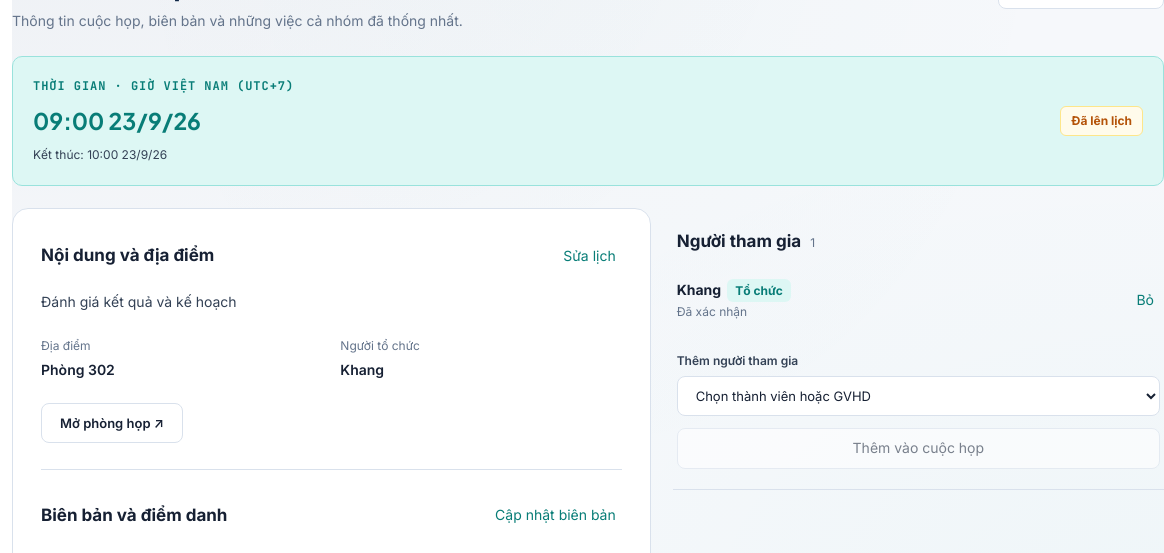
Test: Meetings end-user workflow › updates schedule without changing its participants or shifting time
The width and height of the screenshot is (1164, 553).
Step 1. Click the button "Sửa lịch" → (589, 256), box [557,237,622,275]
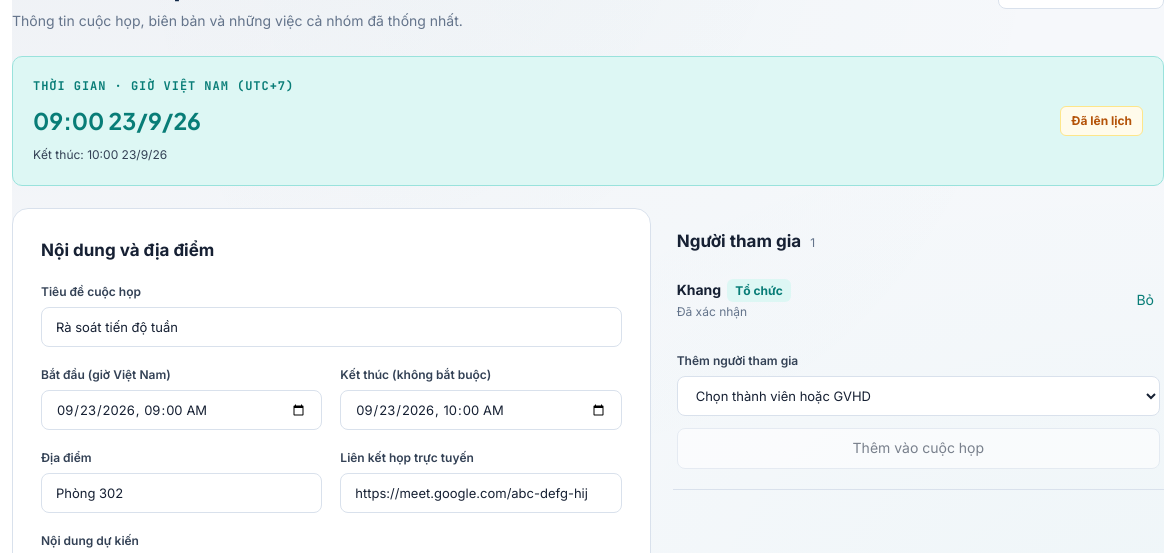
Expected: the field labelled "Bắt đầu (giờ Việt Nam)" holds "2026-09-23T09:00", [41,390,322,430]
Step 2. Replace the text in the field labelled "Địa điểm" with "Phòng 401" → (182, 493), box [41,473,322,513]
(page scrolled)
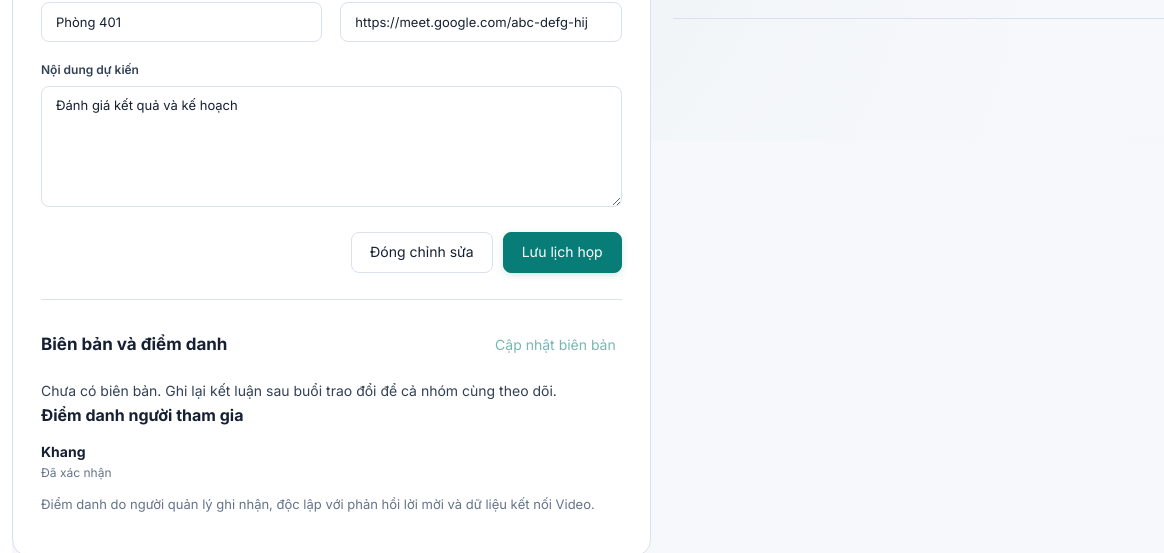
Step 3. Click the button "Lưu lịch họp" → (562, 253), box [503,232,622,273]
(page scrolled)
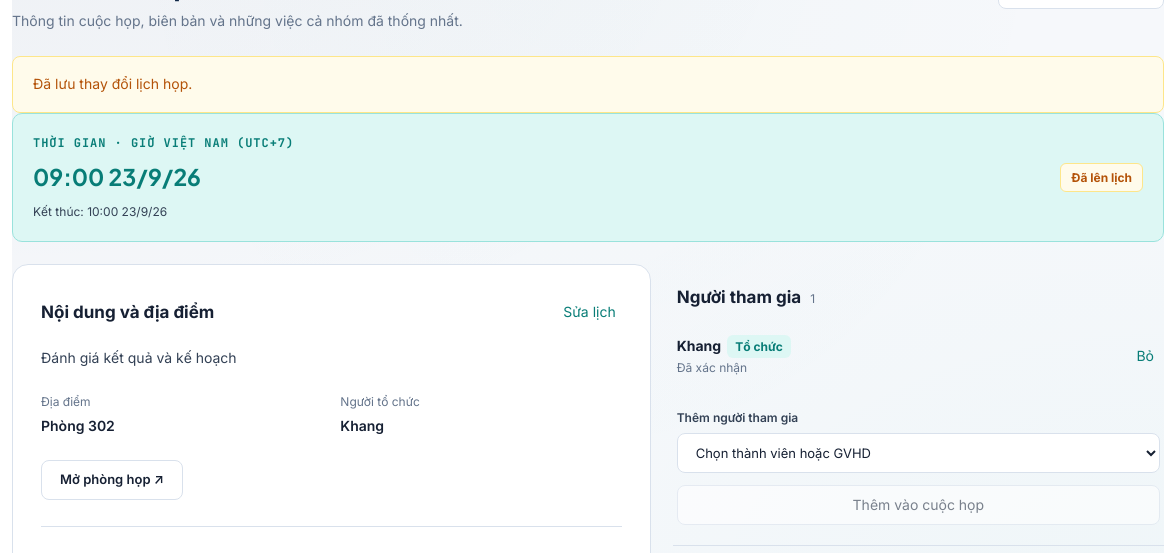
Expected: the text "Đã lưu thay đổi lịch họp." is shown, [12,56,1163,113]
